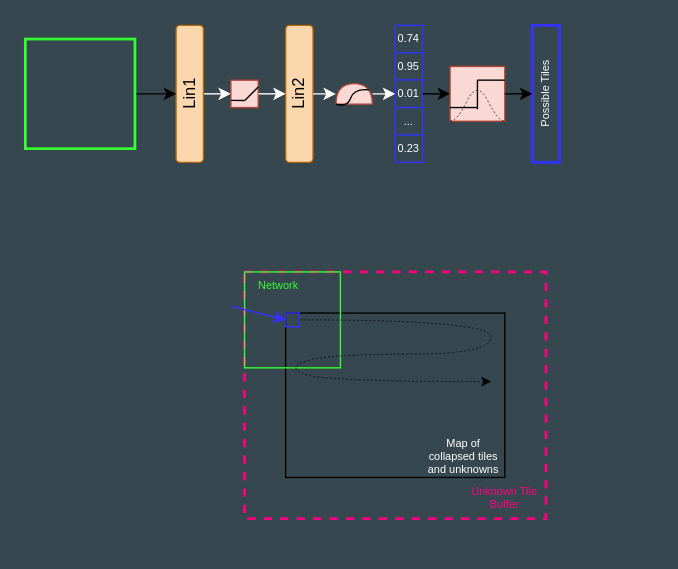
This 678x569 diagram has some shape labels left out. The centre of each missing label's shape, as x and y in pixels:
"7x7 Collapsed Tiles & Unknown Tokens" belongs at (x=79, y=93).
"Output Vector" belongs at (x=189, y=387).
